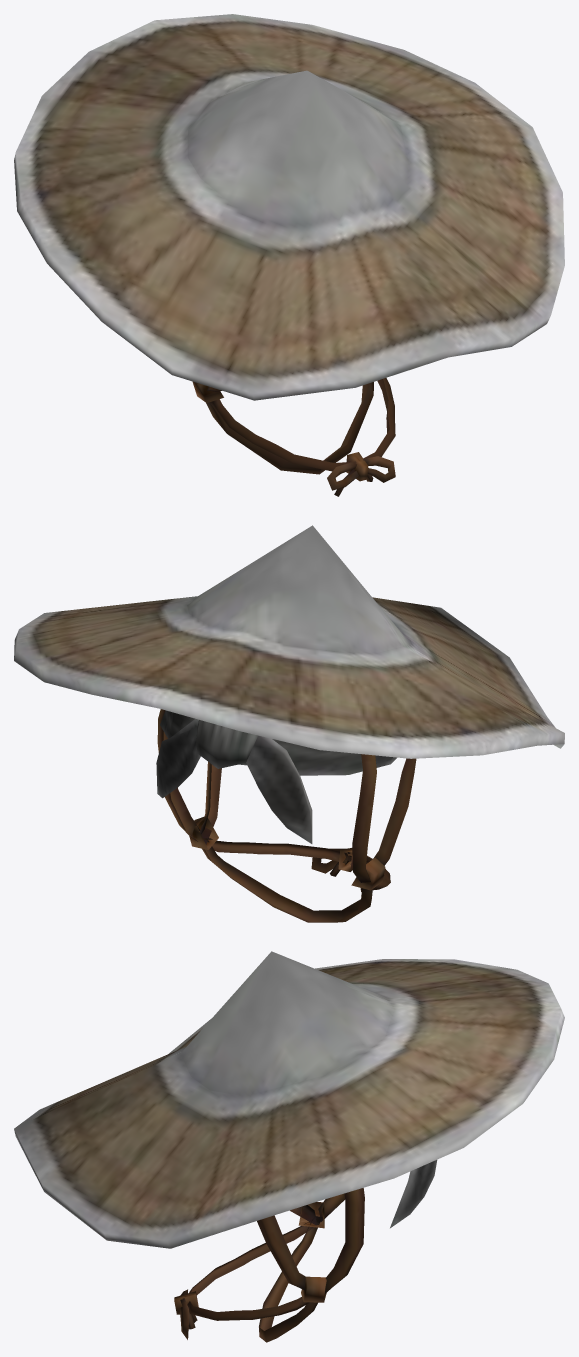
The model's file is helm-heavyguardhousesoldiers.glb.
The picture shows the model from 3 angles, top to bottom: view 1: azimuth 30°, elevation 25°; view 2: azimuth 150°, elevation 25°; view 3: azimuth 270°, elevation 25°; orthographic projection. The views are drawn at different scales.
Bounding box in the file's own units: 0.4741 × 0.3707 × 0.4834.
Materials: 1 (1 with a texture image).
